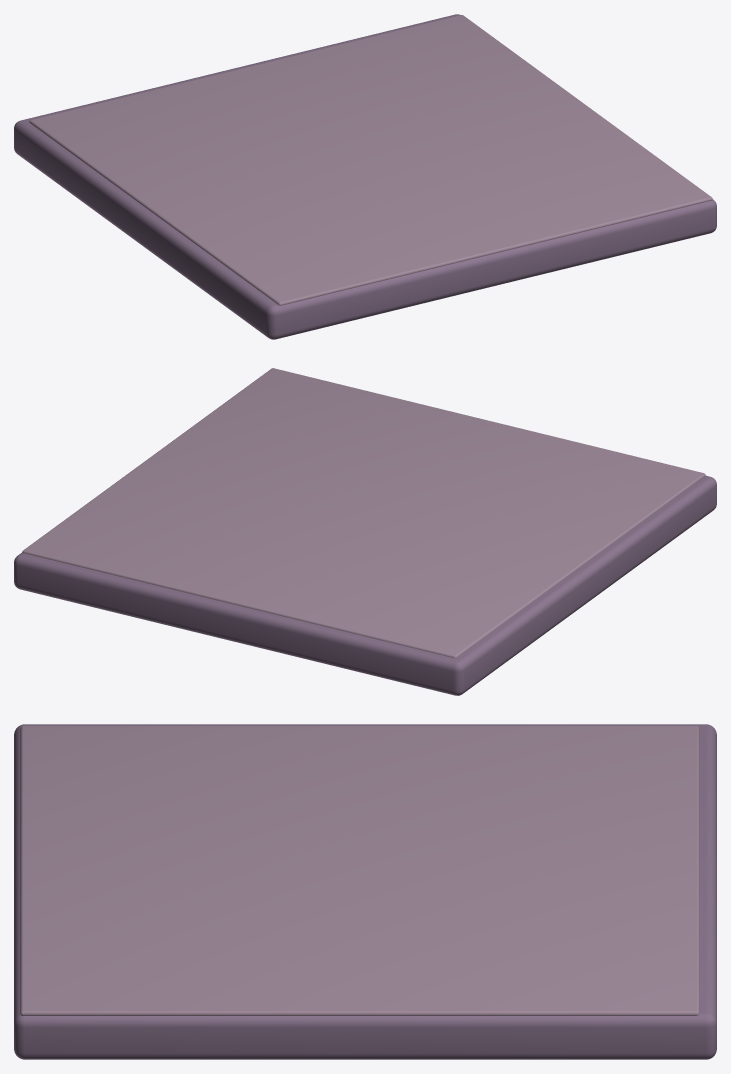
File: floor_base.glb
3 views of the same model, one above another, from view 1: azimuth 30°, elevation 25°; view 2: azimuth 150°, elevation 25°; view 3: azimuth 270°, elevation 25° (orthographic). The views are drawn at different scales.
Parts seen in each view (by area): view 1: floor_base; view 2: floor_base; view 3: floor_base.
Part boxes in pixels (x1,y1,x2,y2): floor_base: (14, 14, 716, 339); floor_base: (14, 368, 716, 695); floor_base: (14, 724, 716, 1059).
Bounding box in the file's own units: 4.45 × 0.34 × 4.45.
